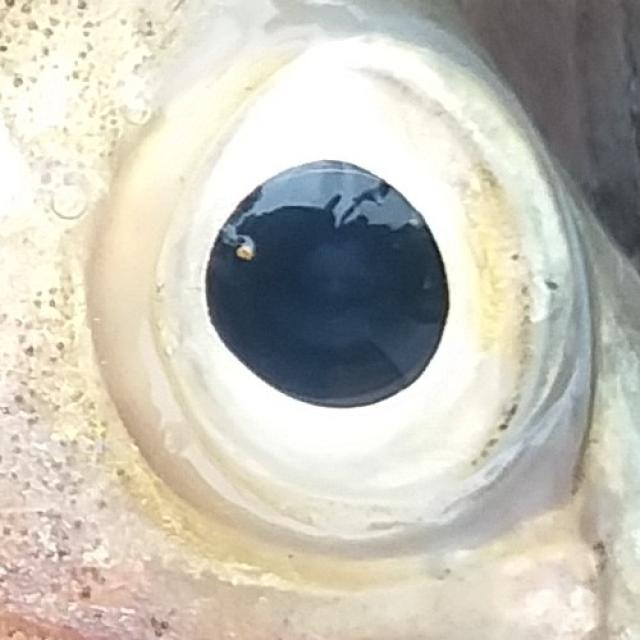Non-Fresh: (28, 1, 623, 580)
